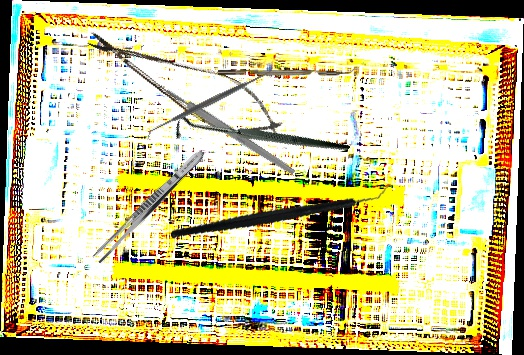Chopper: (170, 145, 391, 276), (217, 62, 357, 78)
Dressing Forceps: (91, 146, 208, 266)
Hook Surgical: (169, 55, 351, 225)
Micro Scissor: (75, 15, 295, 155)
Scalpel Handle: (164, 86, 297, 177)
Spatula Surgical: (140, 64, 278, 141)
